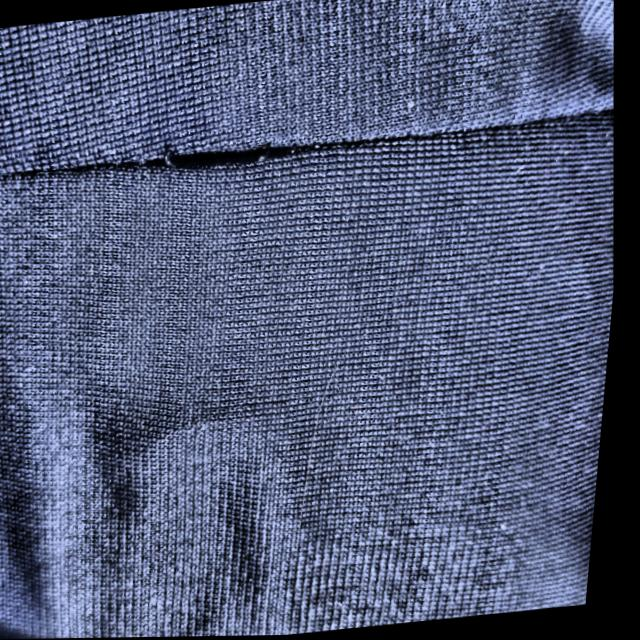seam: (92, 58, 415, 201)
